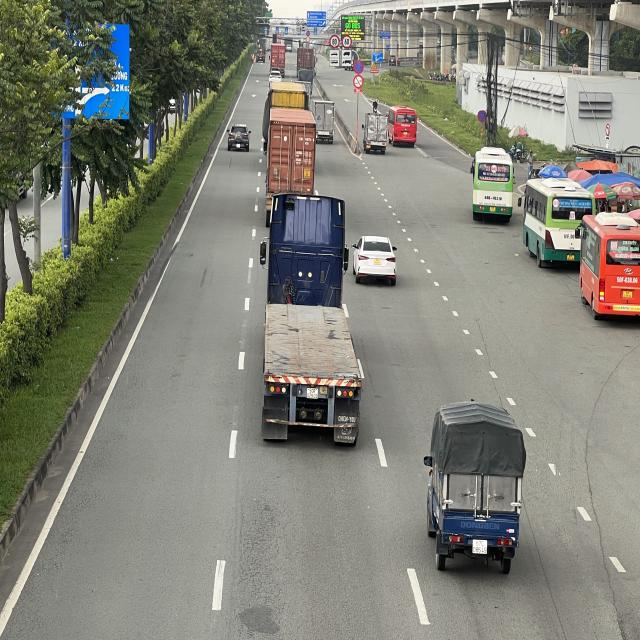car: (353, 237, 399, 286), (227, 125, 251, 152)
coach: (518, 176, 595, 270), (578, 212, 639, 322), (472, 147, 516, 218), (387, 108, 419, 147)
container: (259, 195, 363, 453), (268, 110, 317, 213), (296, 46, 314, 74), (271, 42, 286, 72)
truck: (423, 402, 526, 568), (362, 110, 390, 152), (313, 100, 336, 144)
